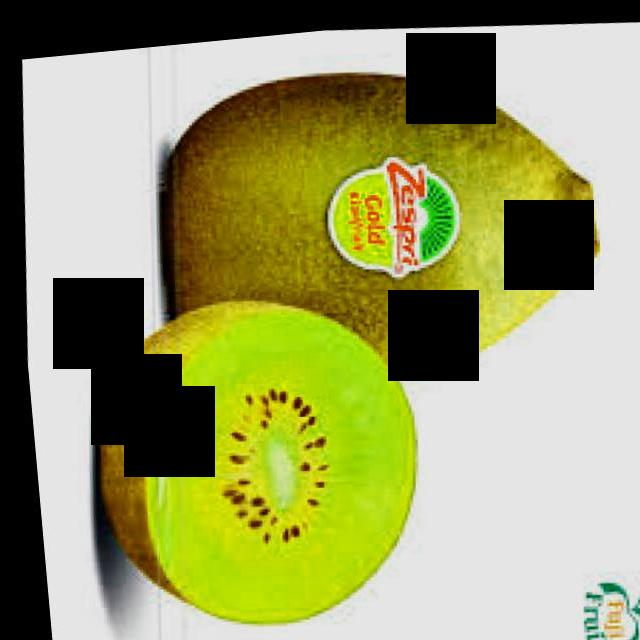kiwi: (128, 29, 630, 420)
